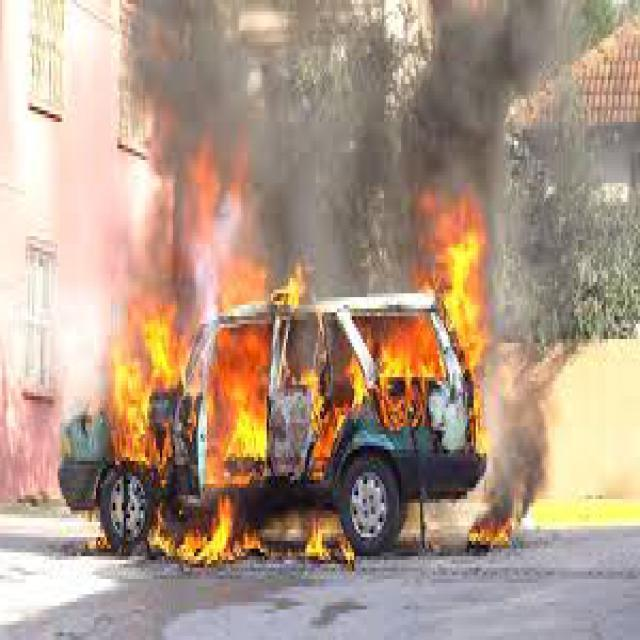Fire: (66, 174, 492, 588)
Smoke: (150, 0, 565, 320), (480, 200, 565, 563)
